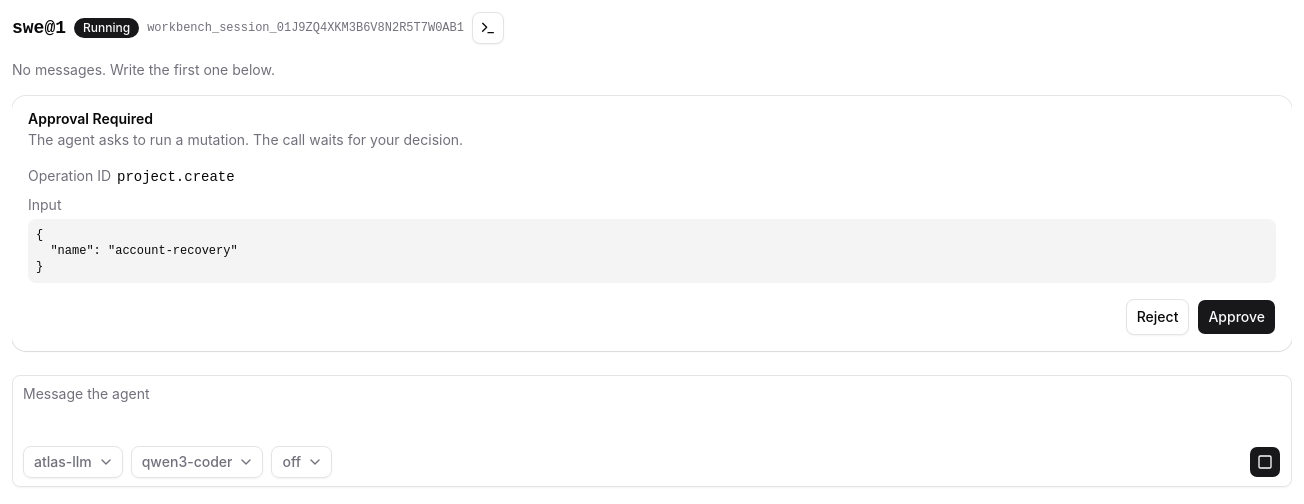
ChatView › shows the operation and the input of a pending approval and approves it
The image size is (1304, 504).
Check: the text "project.create" is shown, box [117,167,235,187]
Check: the text "{ \"name\": \"account-recovery\" }" is shown, box [28,219,1276,283]
Click the button "Approve": [1237, 317] box [1197,299,1276,335]
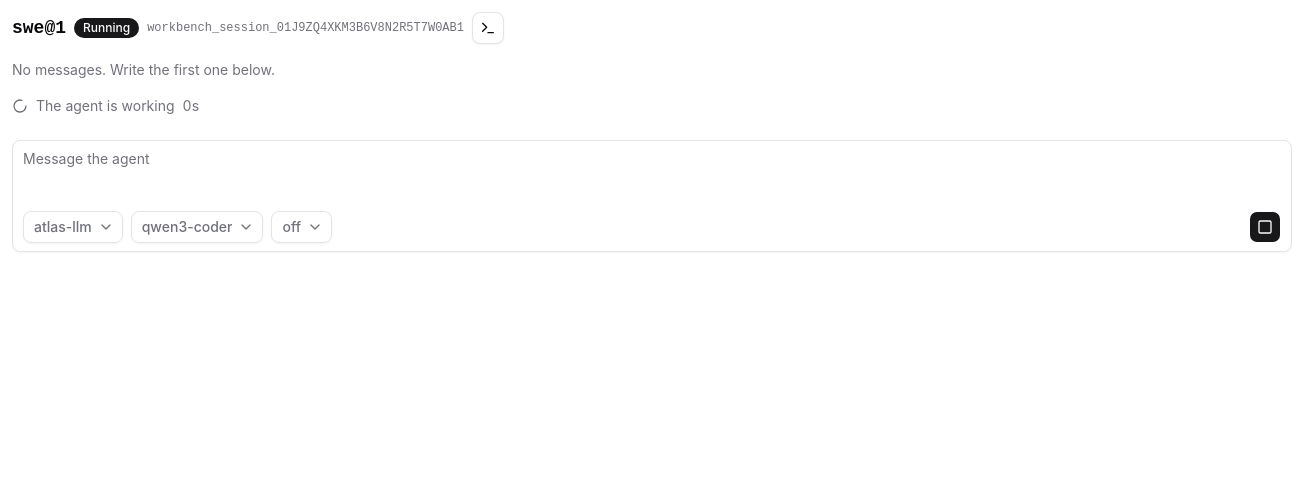
Check: the heading "Approval Required" is gone
